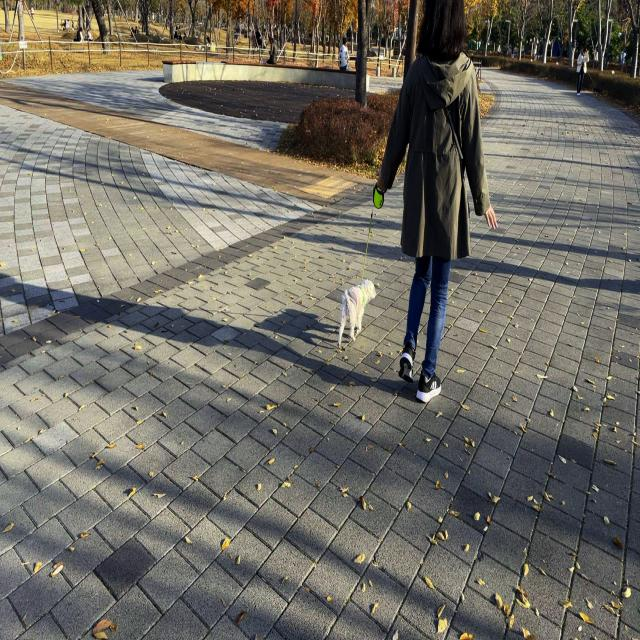Leashed_Dog: (336, 146, 427, 350)
